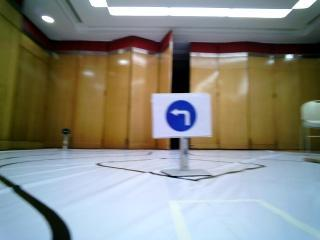left: (153, 99, 208, 134)
